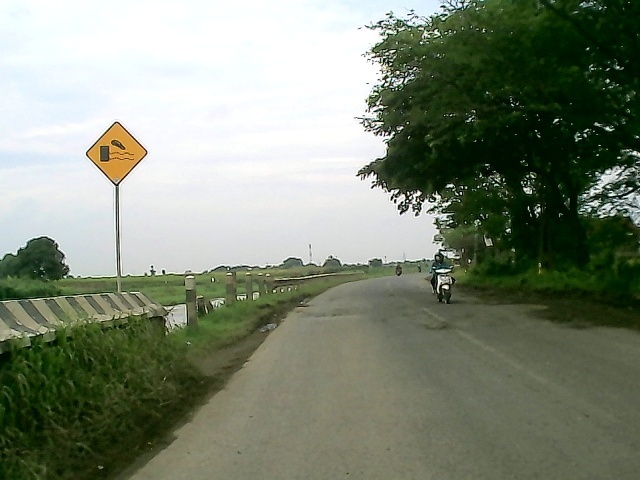Peringatan tepi air: (86, 120, 151, 187)
